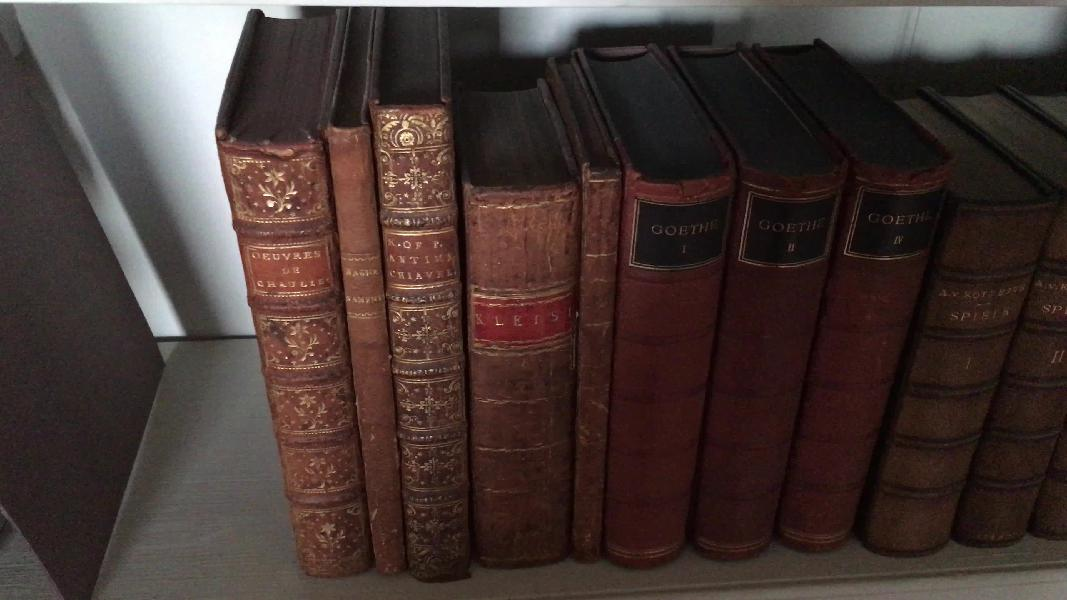Aa6-10: (575, 159, 617, 570)
Aa6-11_13: (597, 178, 961, 572)
Aa6-14_17: (860, 201, 1067, 564)
Aa6-6: (216, 138, 382, 594)
Aa6-7: (318, 118, 414, 593)
Aa6-8: (368, 104, 477, 591)
Aa6-9: (455, 152, 586, 571)
